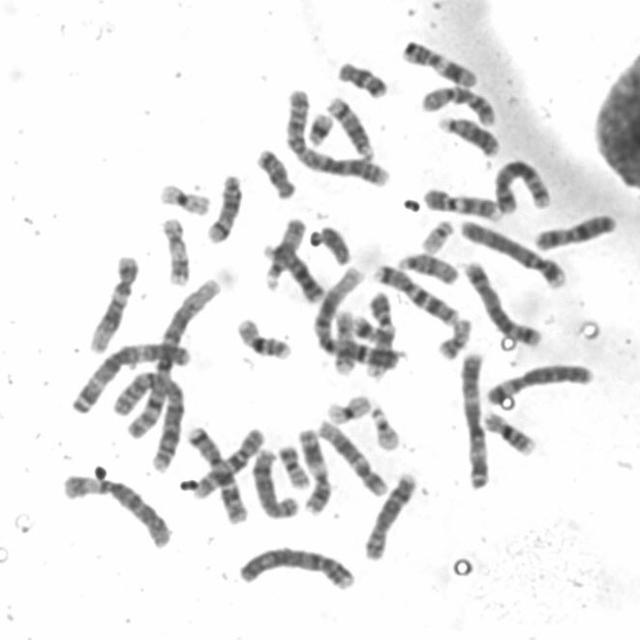A1: (121, 271, 225, 441), (308, 260, 401, 373)
A2: (278, 80, 392, 188), (106, 362, 186, 473)
A3: (64, 336, 192, 415), (454, 344, 493, 491)
B4: (454, 212, 567, 291), (232, 539, 358, 592)
B5: (456, 252, 544, 348), (488, 152, 554, 215)
C10: (187, 420, 266, 501), (414, 78, 500, 128)
C11: (395, 32, 480, 90), (292, 421, 333, 515)
C12: (311, 411, 390, 498), (82, 248, 140, 354)
C6: (56, 466, 174, 550), (480, 356, 596, 406)
C7: (179, 419, 250, 525), (368, 257, 462, 327)
C8: (358, 466, 420, 562), (246, 442, 301, 520)
C9: (416, 180, 504, 222), (361, 286, 397, 378)
D13: (258, 237, 326, 304), (432, 109, 501, 158)
D14: (321, 88, 376, 160), (199, 166, 244, 244)
D15: (257, 210, 308, 292), (392, 246, 461, 286)
E16: (476, 403, 538, 458), (230, 310, 294, 361)
E17: (155, 210, 193, 288), (328, 303, 358, 377)
E18: (250, 140, 298, 200), (330, 53, 390, 99)
F19: (152, 176, 212, 217), (319, 388, 373, 425)
F20: (431, 310, 474, 360), (272, 438, 311, 490)
G21: (301, 106, 336, 147), (346, 307, 384, 344)
G22: (364, 398, 402, 452), (413, 213, 456, 254)
X: (528, 206, 620, 251)
Y: (311, 218, 353, 266)
